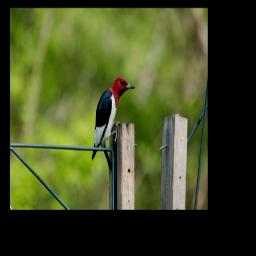Woodpecker: (91, 77, 135, 161)
